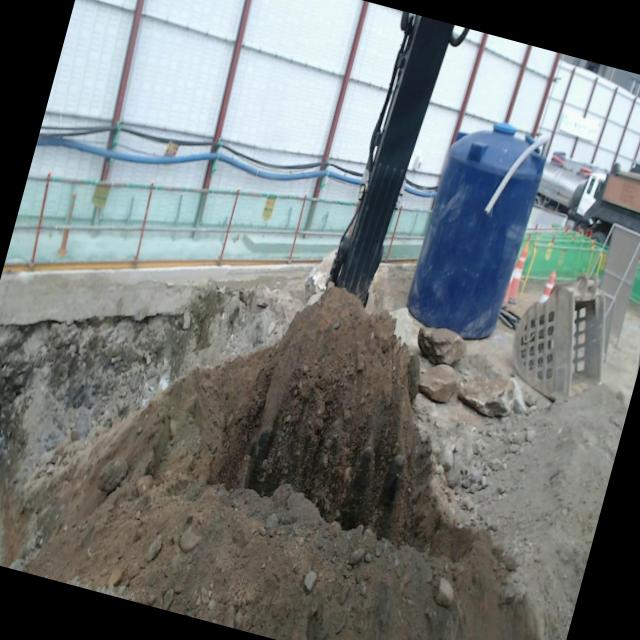red-sand: (0, 350, 545, 640), (256, 286, 408, 465)
stone: (457, 353, 527, 417), (417, 326, 465, 365), (418, 364, 458, 402)
white-sand: (474, 384, 628, 640)
